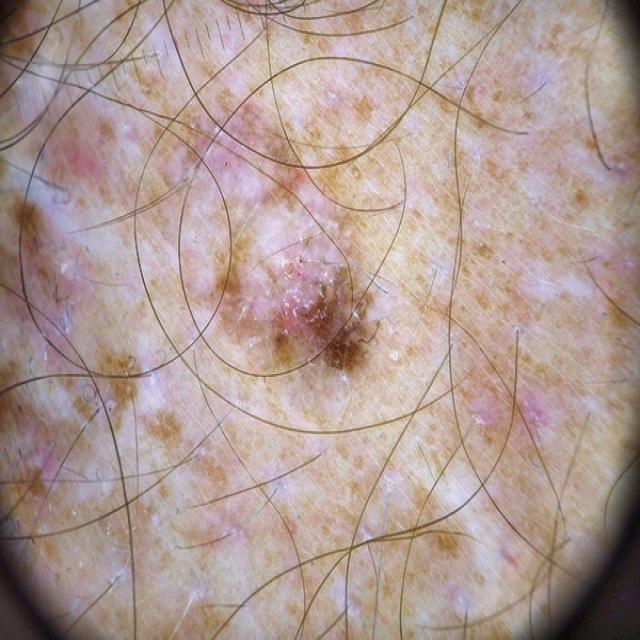Basal-Cell-Carcinoma-BCC-: (40, 43, 512, 446)
